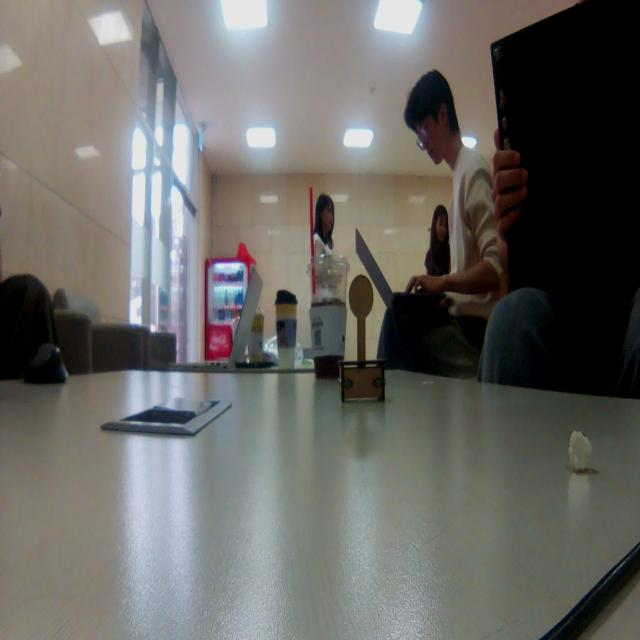target: (338, 273, 386, 403)
